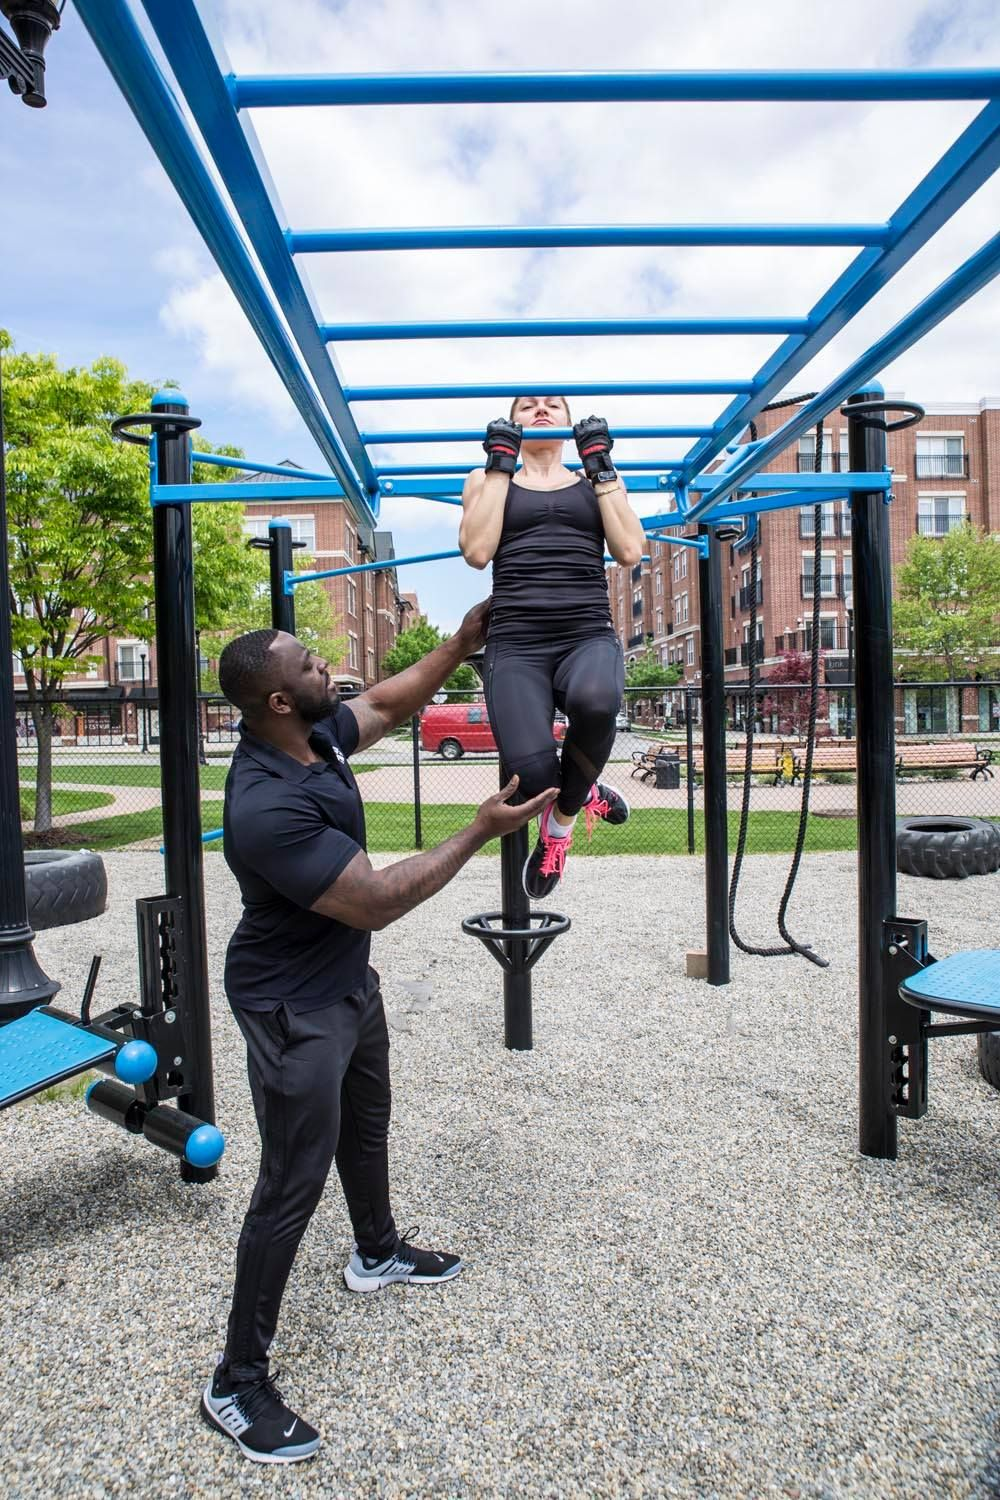Person: (142, 589, 513, 1467), (411, 367, 701, 938)
